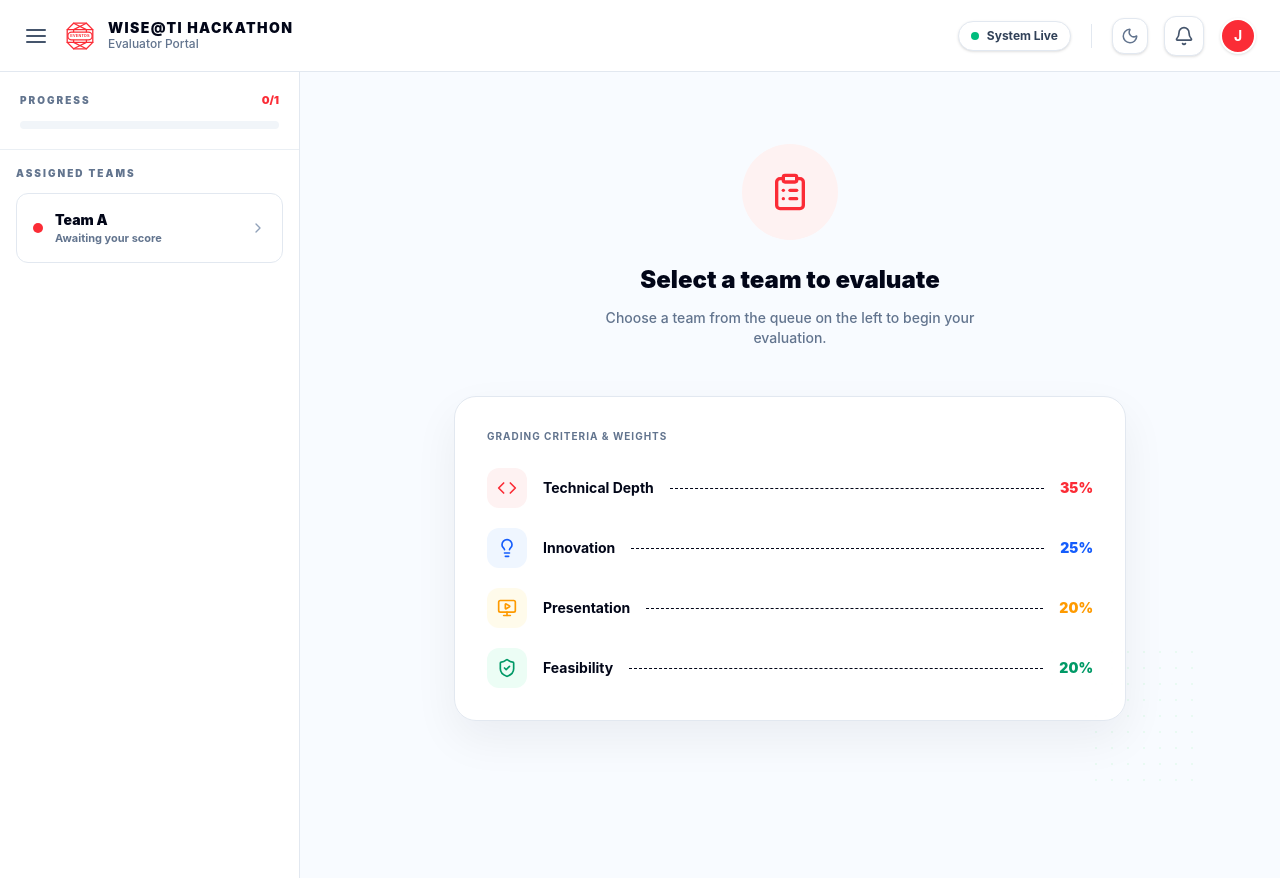
Test: EventOS Stage-1 Regression Tests › 25. Evaluator portal refreshes submitted project ZIP for selected team
What coordinates should you click on to do the following:
click the button "Team A Awaiting your score"
I would click on:
 (150, 228)
Its box is left=16, top=192, right=283, bottom=263.
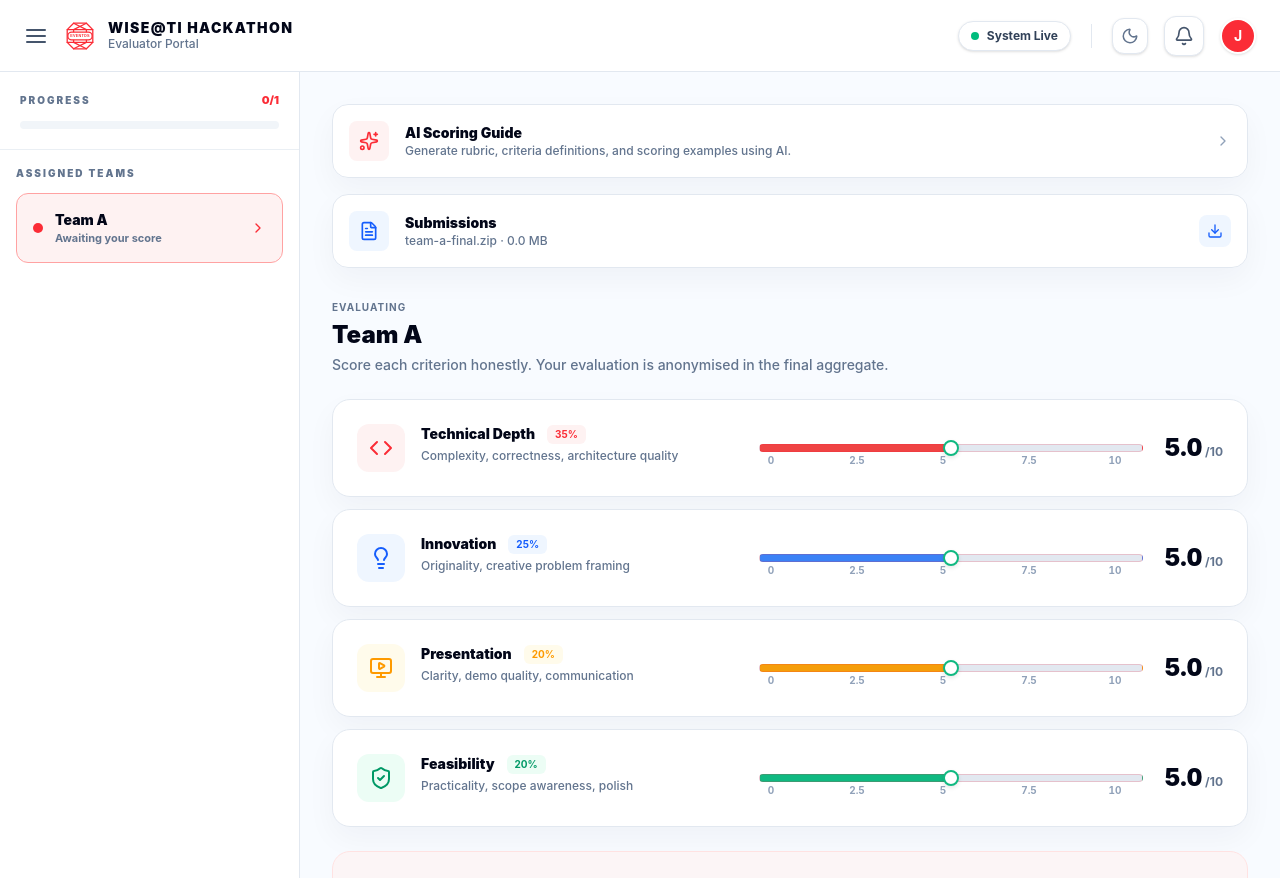
Expected: the text "team-a-final.zip · 0.0 MB" is shown, left=405, top=233, right=548, bottom=249
